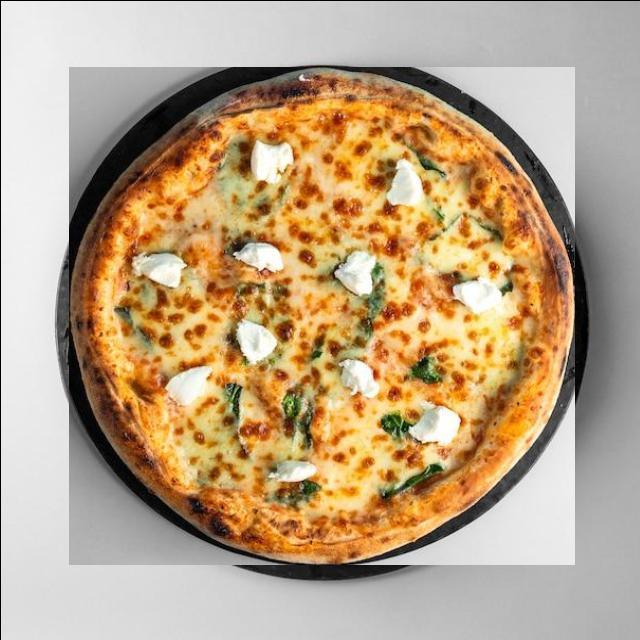basil: (200, 130, 262, 167), (258, 288, 284, 369), (327, 182, 362, 241), (194, 452, 242, 494), (400, 200, 421, 248), (201, 246, 232, 275), (231, 192, 262, 218), (390, 374, 421, 399), (321, 129, 343, 150), (129, 335, 146, 354)
pizza: (68, 66, 574, 564)
